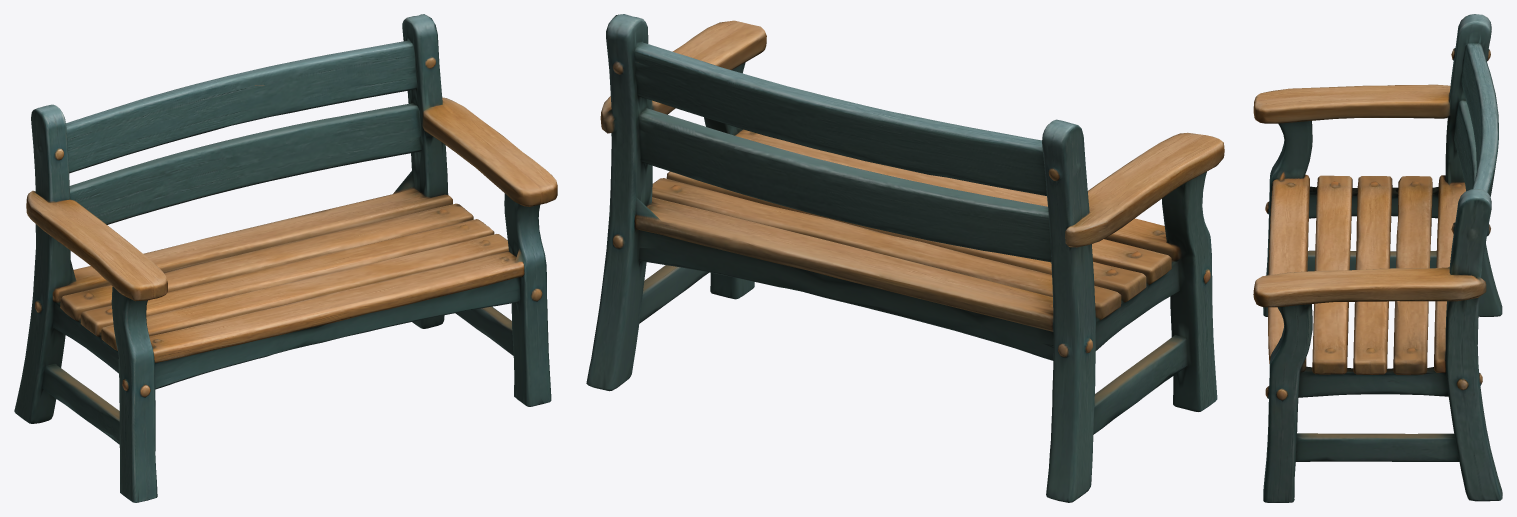
File: tripo_convert_4477cc88-f1b3-4fe9-85fa-ad3e12b823d2.fbx
3 renders of one model, left to right at view 1: azimuth 30°, elevation 25°; view 2: azimuth 150°, elevation 25°; view 3: azimuth 270°, elevation 25°, orthographic. The views are drawn at different scales.
Visible parts, largest first — view 1: tripo_node_4477cc88; view 2: tripo_node_4477cc88; view 3: tripo_node_4477cc88.
Boxes of the visible parts, <box> form: tripo_node_4477cc88: <box>14,14,557,502</box>; tripo_node_4477cc88: <box>586,14,1224,502</box>; tripo_node_4477cc88: <box>1253,14,1502,502</box>.
Size of the model in its own units: 0.9796 by 0.6708 by 0.505.
Materials: 1 (1 with a texture image).
